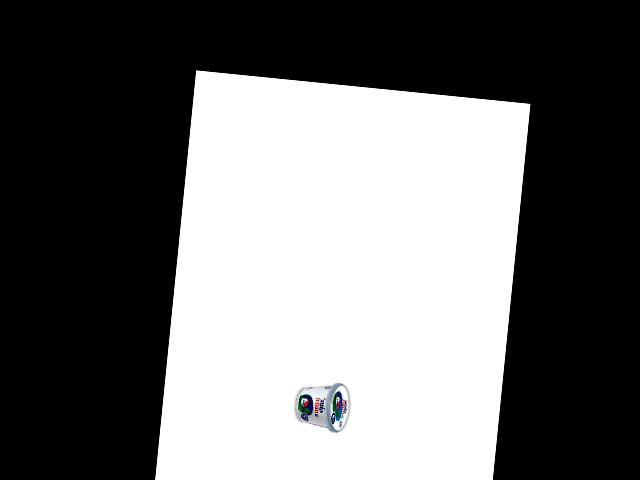cotage: (292, 377, 353, 432)
